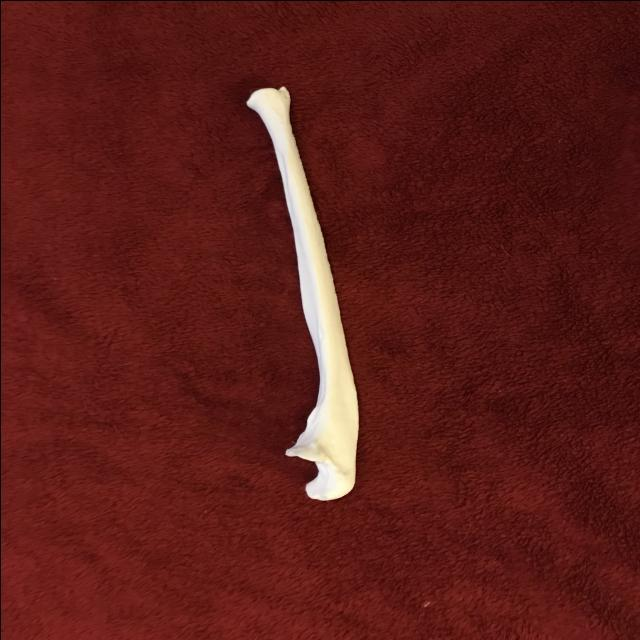bone: (237, 81, 375, 504)
